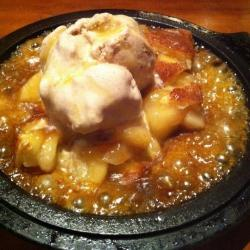icecream: (31, 12, 171, 133)
